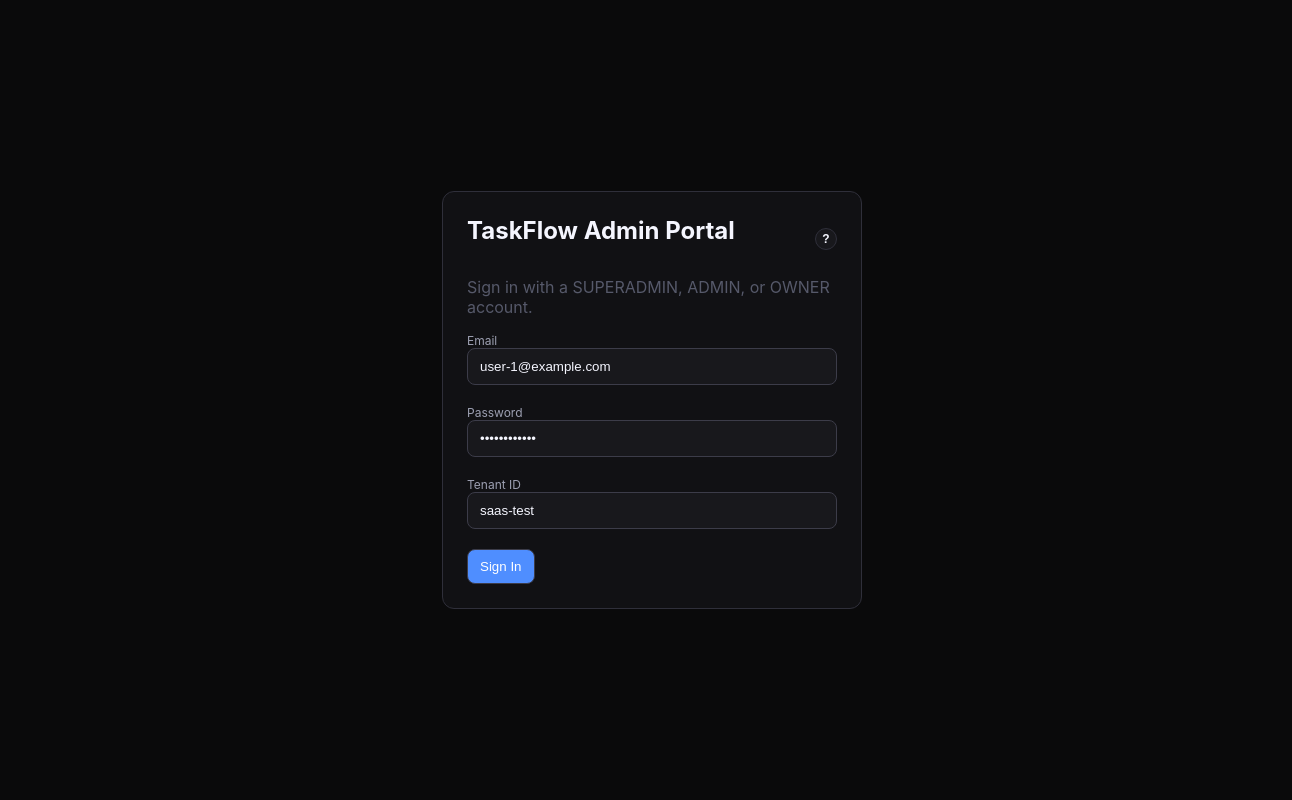
it: Admin UI behavior › unpin action expands TaskFlow menu after collapse
Click the button "Sign In": [501, 566] box [467,549,534,584]
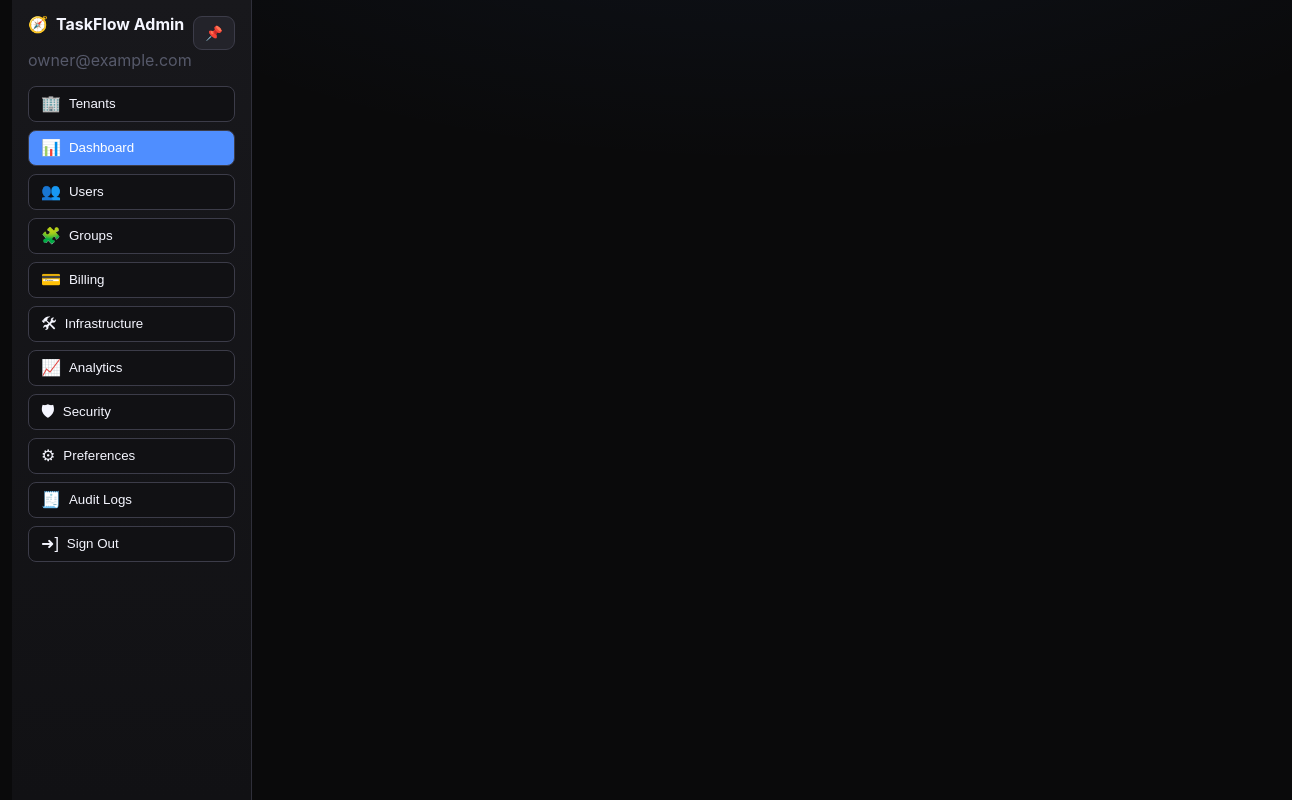
Expected: the button named "Pin TaskFlow pane (collapse menu)" is shown
Click the button named "Pin TaskFlow pane (collapse menu)": [214, 33] box [193,16,235,50]
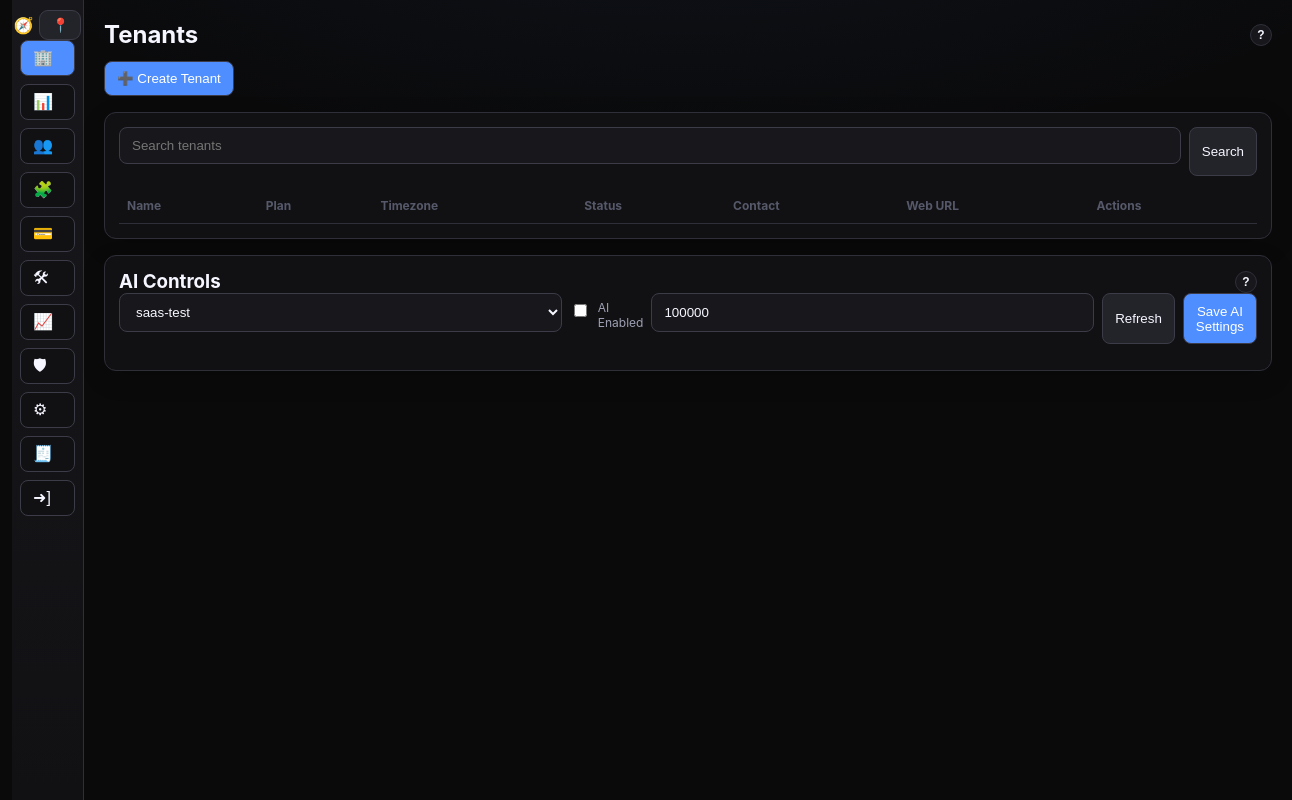
Expected: the button named "Unpin TaskFlow pane (expand menu)" is shown
Click the button named "Unpin TaskFlow pane (expand menu)": [60, 25] box [40,10,82,40]
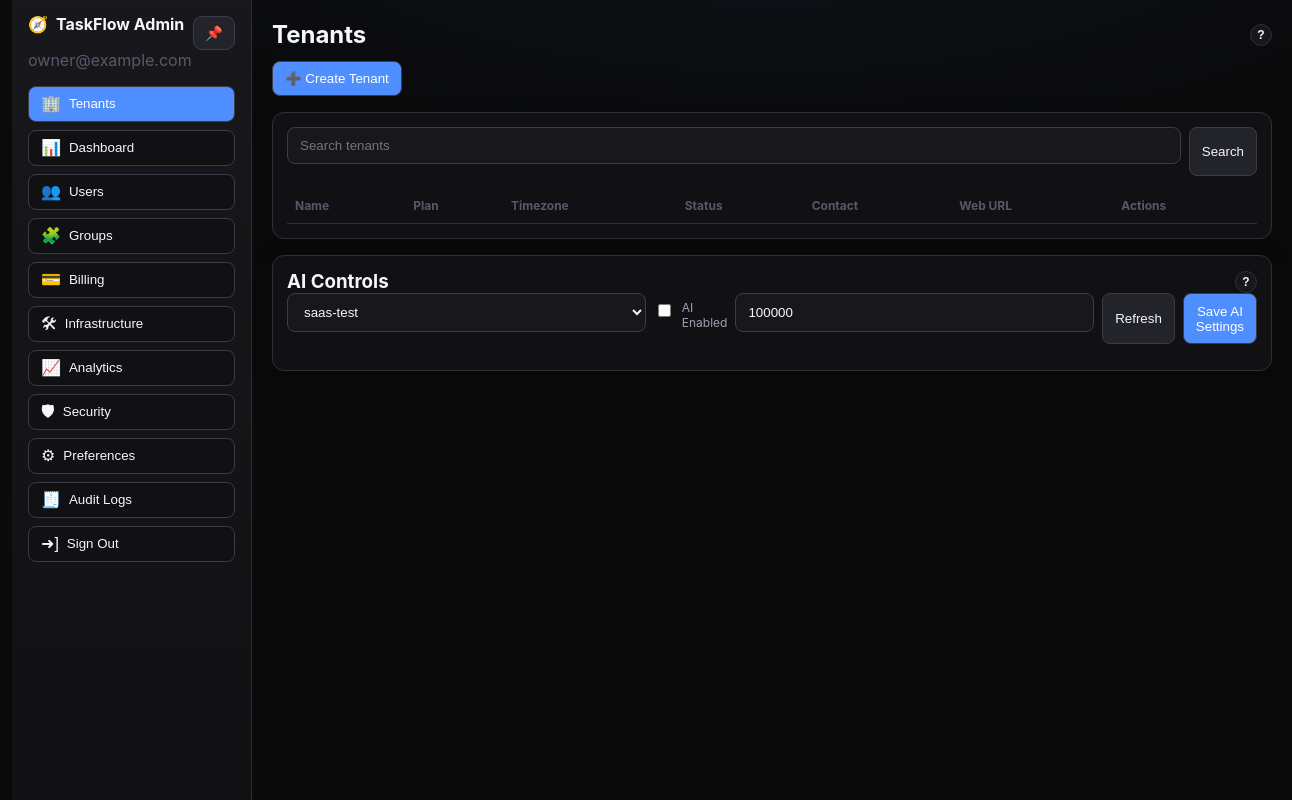
Expected: the button "🏢 Tenants" is shown, [28,86,235,122]
Expected: the button named "Pin TaskFlow pane (collapse menu)" is shown, [193,16,235,50]
